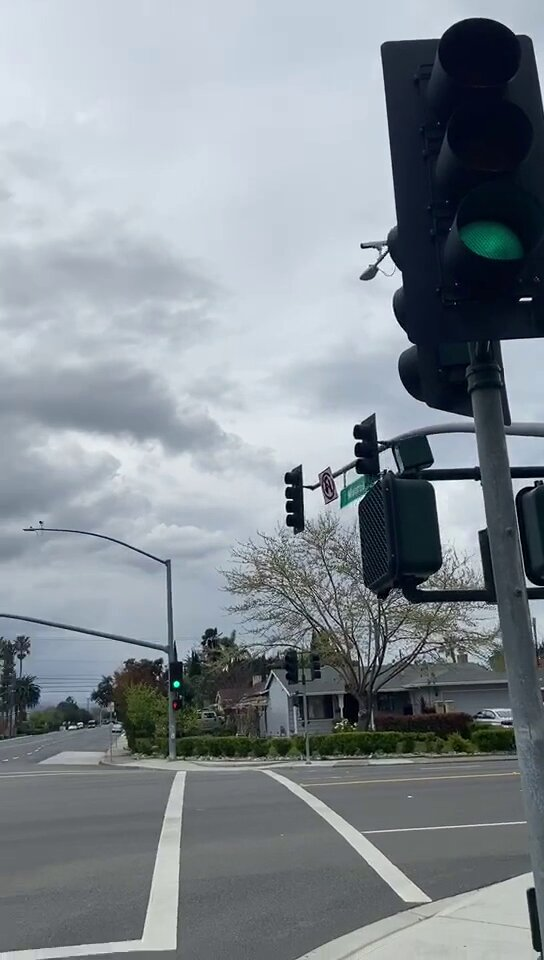green_light: (411, 46, 533, 325), (171, 663, 183, 690)
